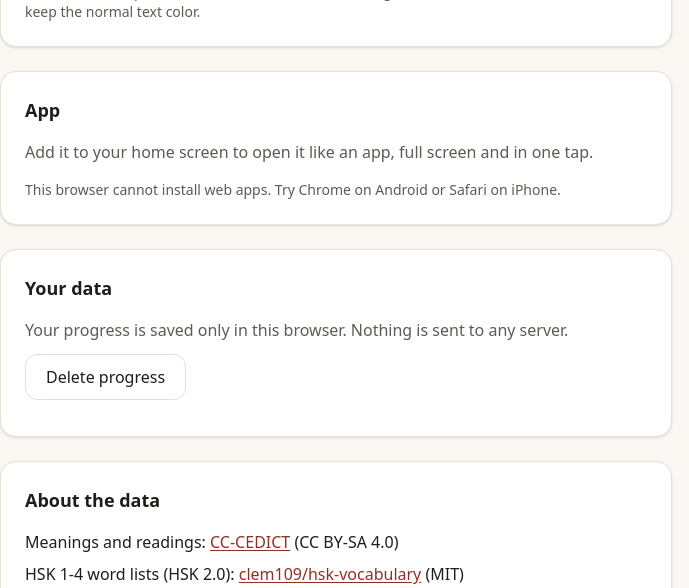
SettingsPage › resets progress only after confirming
(page scrolled)
Click the button "Delete progress" at (106, 377), box [25,354,186,400]
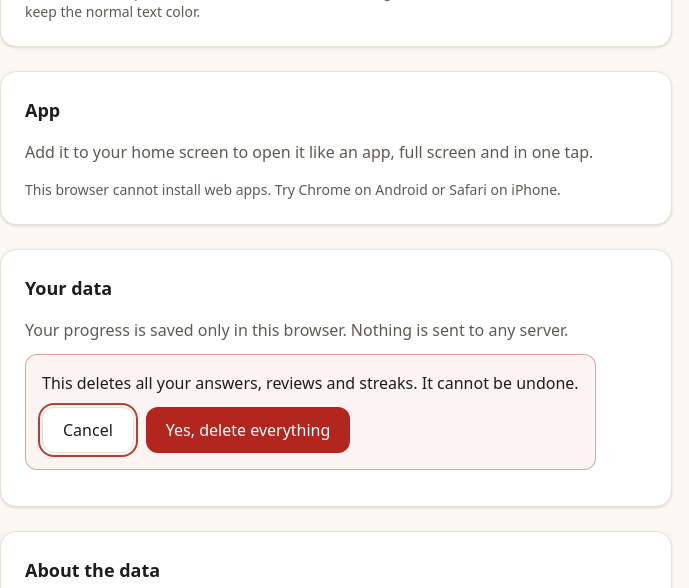
Click the button "Cancel" at (88, 430), box [42,407,134,453]
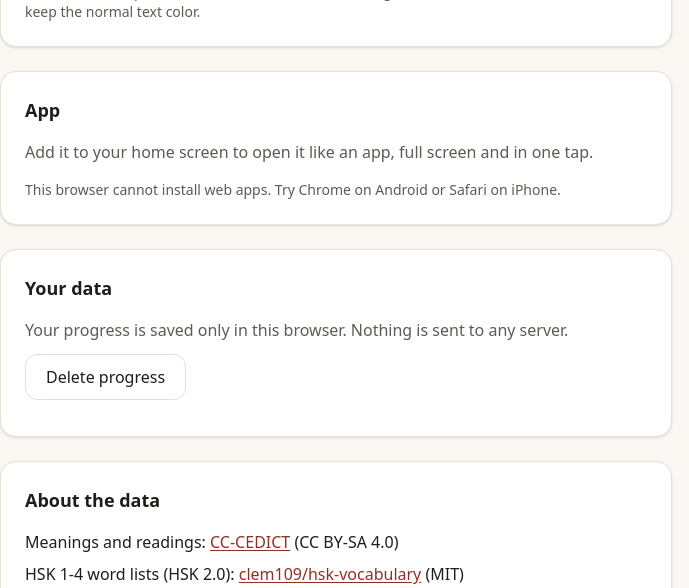
Click the button "Delete progress" at (106, 377), box [25,354,186,400]
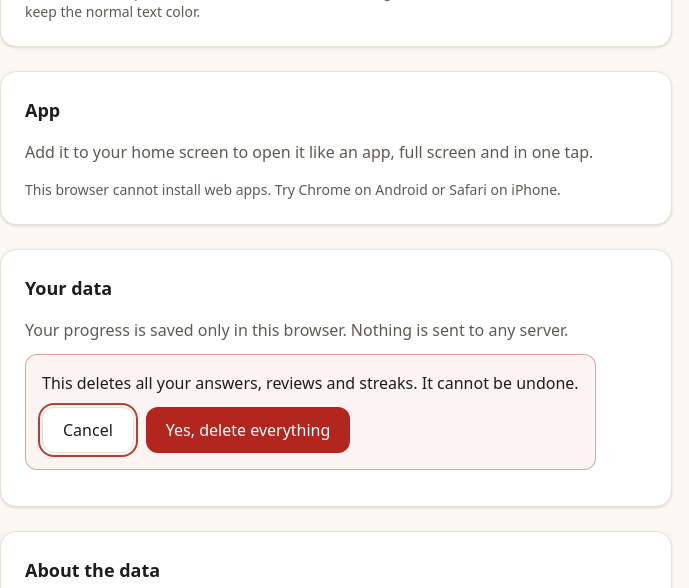
Click the button "Yes, delete everything" at (248, 430), box [146,407,350,453]
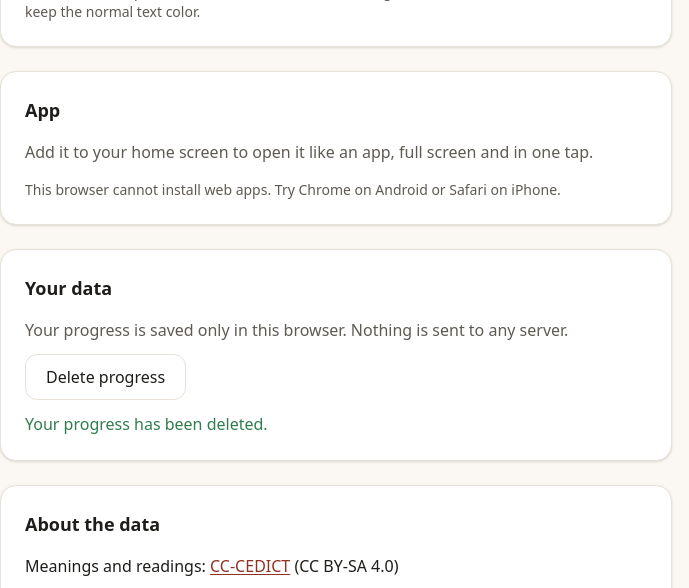
Result: the message reads "Your progress has been deleted." at [25,413,268,435]
